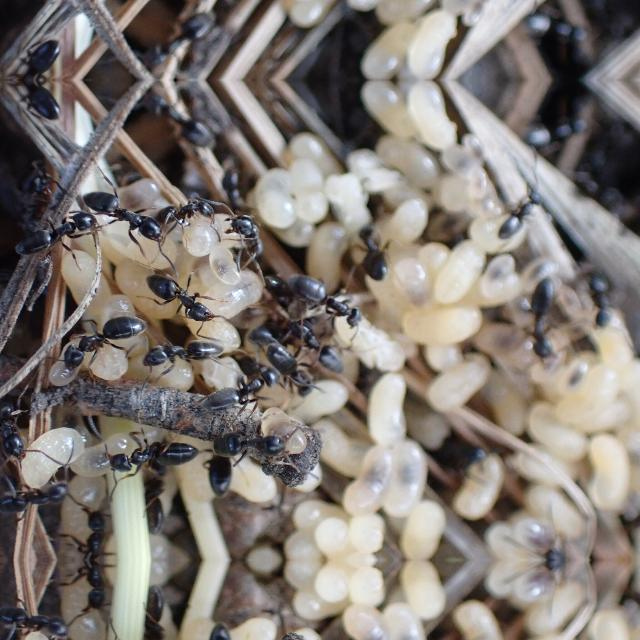Tapinoma: (46, 307, 152, 381), (80, 180, 172, 248), (510, 275, 574, 367), (93, 430, 205, 480), (260, 266, 340, 336), (200, 407, 260, 499), (8, 206, 104, 262), (292, 270, 373, 332), (141, 268, 223, 328), (144, 90, 223, 152), (144, 8, 223, 70), (254, 328, 320, 398), (201, 364, 287, 416), (218, 206, 282, 272), (137, 332, 229, 374), (346, 217, 402, 285), (488, 188, 552, 246), (292, 314, 353, 374), (574, 264, 626, 332), (0, 474, 76, 520), (0, 80, 74, 126), (0, 34, 74, 80), (212, 425, 298, 463), (61, 507, 123, 559), (61, 561, 123, 613), (0, 598, 76, 640), (154, 192, 226, 234), (0, 391, 40, 465), (16, 140, 59, 206), (144, 465, 166, 539), (200, 620, 260, 640), (144, 580, 164, 640), (15, 0, 58, 18)
